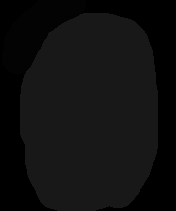fp: (13, 8, 167, 209)
